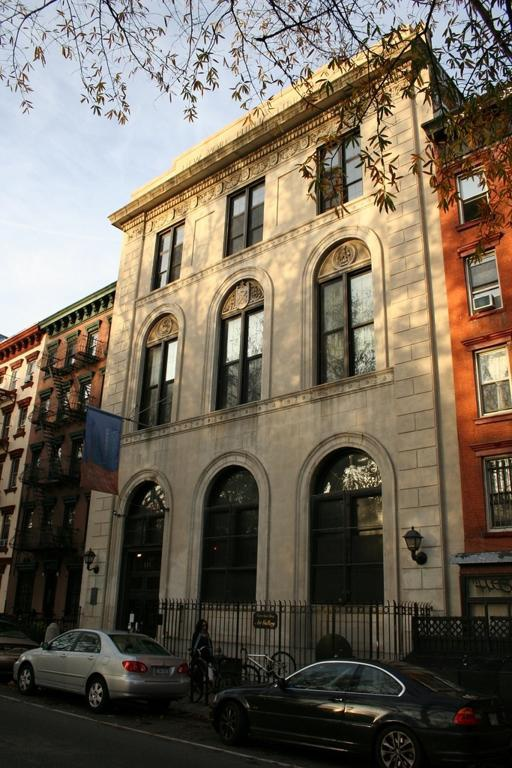non-vehicle: (179, 645, 261, 701), (238, 647, 297, 680)
